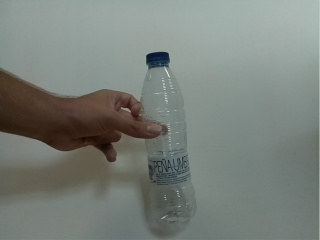botella plastico: (136, 48, 198, 227)
